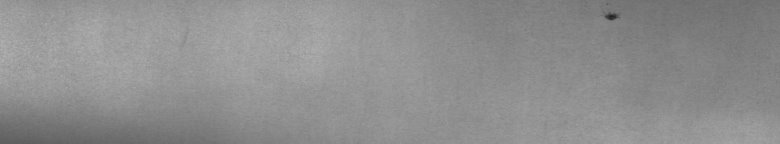fi: (600, 4, 621, 28)
